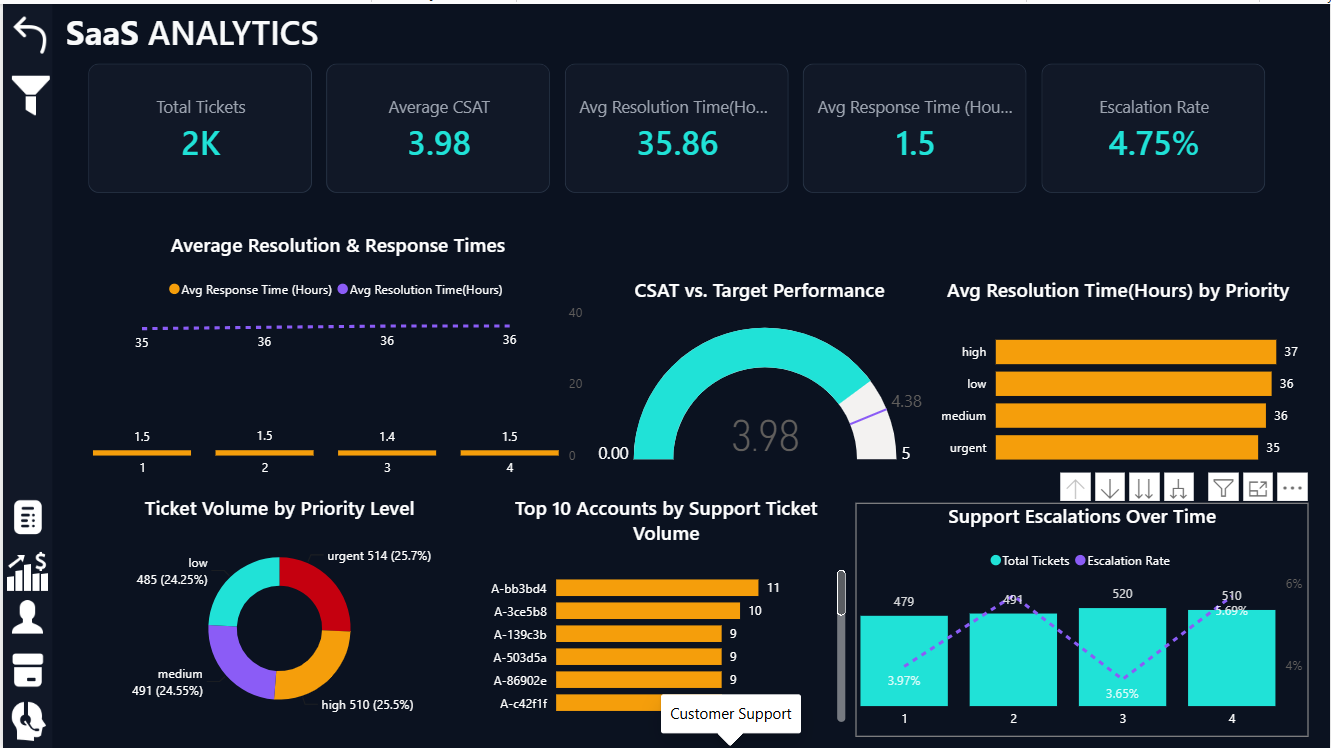

The page's visual inventory and layout, read from the dashboard file:
{"tool":"powerbi","page":{"name":"Customer Support","canvas":[1280,720],"ordinal":4},"visuals":[{"type":"cardVisual","fields":{"Data":["gold fact_support_tickets.Total Tickets","gold fact_support_tickets.Average CSAT","gold fact_support_tickets.Avg Resolution Time","gold fact_support_tickets.Avg Response Time","gold fact_support_tickets.Escalation Rate"]},"box":[47.6,41.8,1207.6,155.8],"z":0},{"type":"image","box":[0,572.8,47.6,37.5],"z":0,"group":"g1"},{"type":"donutChart","title":"Ticket Volume by Priority Level","fields":{"Y":["gold fact_support_tickets.Total Tickets"],"Category":["gold fact_support_tickets.priority"]},"box":[82.5,472.5,370,223.8],"z":1000},{"type":"image","box":[0,520.8,47.6,51.9],"z":1000,"group":"g1"},{"type":"textbox","box":[47.6,0,346.3,59.2],"z":2000},{"type":"image","box":[0,618.9,47.6,47.6],"z":2000,"group":"g1"},{"type":"shape","box":[0,0,47.6,719.9],"z":3000},{"type":"image","box":[0,670,47.6,42],"z":3000,"group":"g1"},{"type":"gauge","title":"CSAT vs. Target Performance","fields":{"Y":["gold fact_support_tickets.Average CSAT"],"TargetValue":["gold fact_support_tickets.Target CSAT"],"MaxValue":["gold fact_support_tickets.Max CSAT"]},"box":[565,262.5,331.2,195],"z":4000},{"type":"image","box":[0,468.9,47.6,51.9],"z":4000,"group":"g1"},{"type":"lineStackedColumnComboChart","title":"Support Escalations Over Time","fields":{"Category":["gold dim_date.calendar_year Hierarchy.calendar_quarter","gold dim_date.calendar_year Hierarchy.Mon Short","gold dim_date.calendar_date"],"Y":["gold fact_support_tickets.Total Tickets"],"Y2":["gold fact_support_tickets.Escalation Rate"]},"box":[822.5,481.2,437.5,226.2],"z":5000},{"type":"lineClusteredColumnComboChart","title":"Average Resolution & Response Times","fields":{"Y":["gold fact_support_tickets.Avg Response Time"],"Y2":["gold fact_support_tickets.Avg Resolution Time"],"Category":["gold dim_date.calendar_year Hierarchy.calendar_quarter","gold dim_date.calendar_year Hierarchy.Mon Short","gold dim_date.calendar_date"]},"box":[82.5,220,482.5,246.2],"z":6000},{"type":"image","title":"Filter Button","box":[5.4,59.8,41.7,56.2],"z":7000},{"type":"clusteredBarChart","fields":{"Y":["gold fact_support_tickets.Avg Resolution Time"],"Category":["gold fact_support_tickets.priority"]},"box":[896,263,360,195],"z":9000},{"type":"barChart","title":"Top 10 Accounts by Support Ticket Volume","fields":{"Category":["gold fact_support_tickets.account_id"],"Y":["gold fact_support_tickets.Total Tickets"]},"box":[462.5,472.5,356.2,225],"z":10000},{"type":"image","title":"Filter Button","box":[5.8,2.9,41.8,56.3],"z":11000},{"type":"group","id":"g1","title":"Page Nav","box":[0,468.9,47.6,243.1],"z":13000}]}

Visuals, with their boxes on the page's 1280x720 design canvas (x1, y1, x2, y2). These are canvas units, not pixel positions in the 1331x748 screenshot, which may show the page scaled, cropped or inside an application window:
cardVisual - gold fact_support_tickets.Total Tickets x gold fact_support_tickets.Average CSAT: {"left": 48, "top": 42, "right": 1255, "bottom": 198}
image: {"left": 0, "top": 573, "right": 48, "bottom": 610}
"Ticket Volume by Priority Level" donutChart: {"left": 82, "top": 472, "right": 452, "bottom": 696}
image: {"left": 0, "top": 521, "right": 48, "bottom": 573}
textbox: {"left": 48, "top": 0, "right": 394, "bottom": 59}
image: {"left": 0, "top": 619, "right": 48, "bottom": 666}
shape: {"left": 0, "top": 0, "right": 48, "bottom": 720}
image: {"left": 0, "top": 670, "right": 48, "bottom": 712}
"CSAT vs. Target Performance" gauge: {"left": 565, "top": 262, "right": 896, "bottom": 458}
image: {"left": 0, "top": 469, "right": 48, "bottom": 521}
"Support Escalations Over Time" lineStackedColumnComboChart: {"left": 822, "top": 481, "right": 1260, "bottom": 707}
"Average Resolution & Response Times" lineClusteredColumnComboChart: {"left": 82, "top": 220, "right": 565, "bottom": 466}
"Filter Button" image: {"left": 5, "top": 60, "right": 47, "bottom": 116}
clusteredBarChart - gold fact_support_tickets.Avg Resolution Time x gold fact_support_tickets.priority: {"left": 896, "top": 263, "right": 1256, "bottom": 458}
"Top 10 Accounts by Support Ticket Volume" barChart: {"left": 462, "top": 472, "right": 819, "bottom": 698}
"Filter Button" image: {"left": 6, "top": 3, "right": 48, "bottom": 59}
"Page Nav" group: {"left": 0, "top": 469, "right": 48, "bottom": 712}
